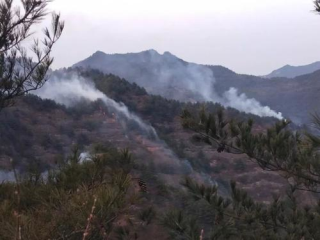smoke: (50, 76, 164, 138), (194, 75, 292, 127)
